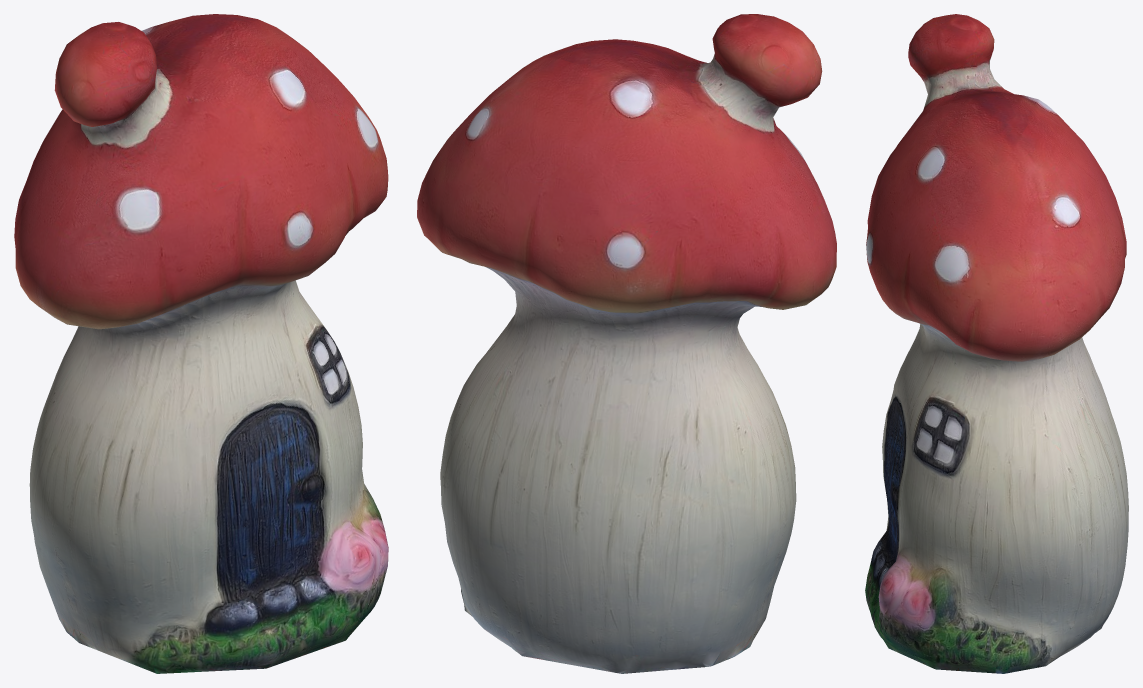
File: cottage_toadstool.glb
The picture shows the model from 3 angles, left to right: view 1: azimuth 30°, elevation 25°; view 2: azimuth 150°, elevation 25°; view 3: azimuth 270°, elevation 25°; orthographic projection. The views are drawn at different scales.
Parts seen in each view (by area): view 1: cottage_toadstool; view 2: cottage_toadstool; view 3: cottage_toadstool.
Boxes of the visible parts, left/top/right/bottom form: cottage_toadstool: left=14, top=14, right=388, bottom=673; cottage_toadstool: left=417, top=14, right=836, bottom=673; cottage_toadstool: left=865, top=14, right=1128, bottom=673.
Bounding box in the file's own units: 3.11 × 5 × 2.18.
Materials: 1 (1 with a texture image).
